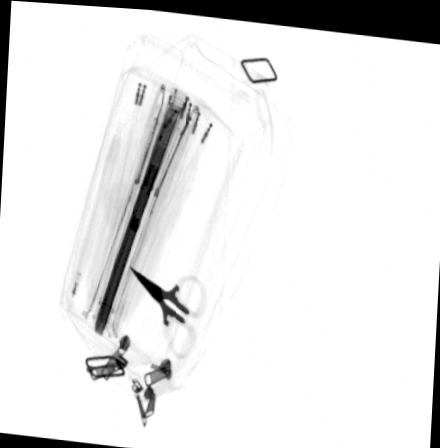Scissors: (126, 263, 208, 359)
